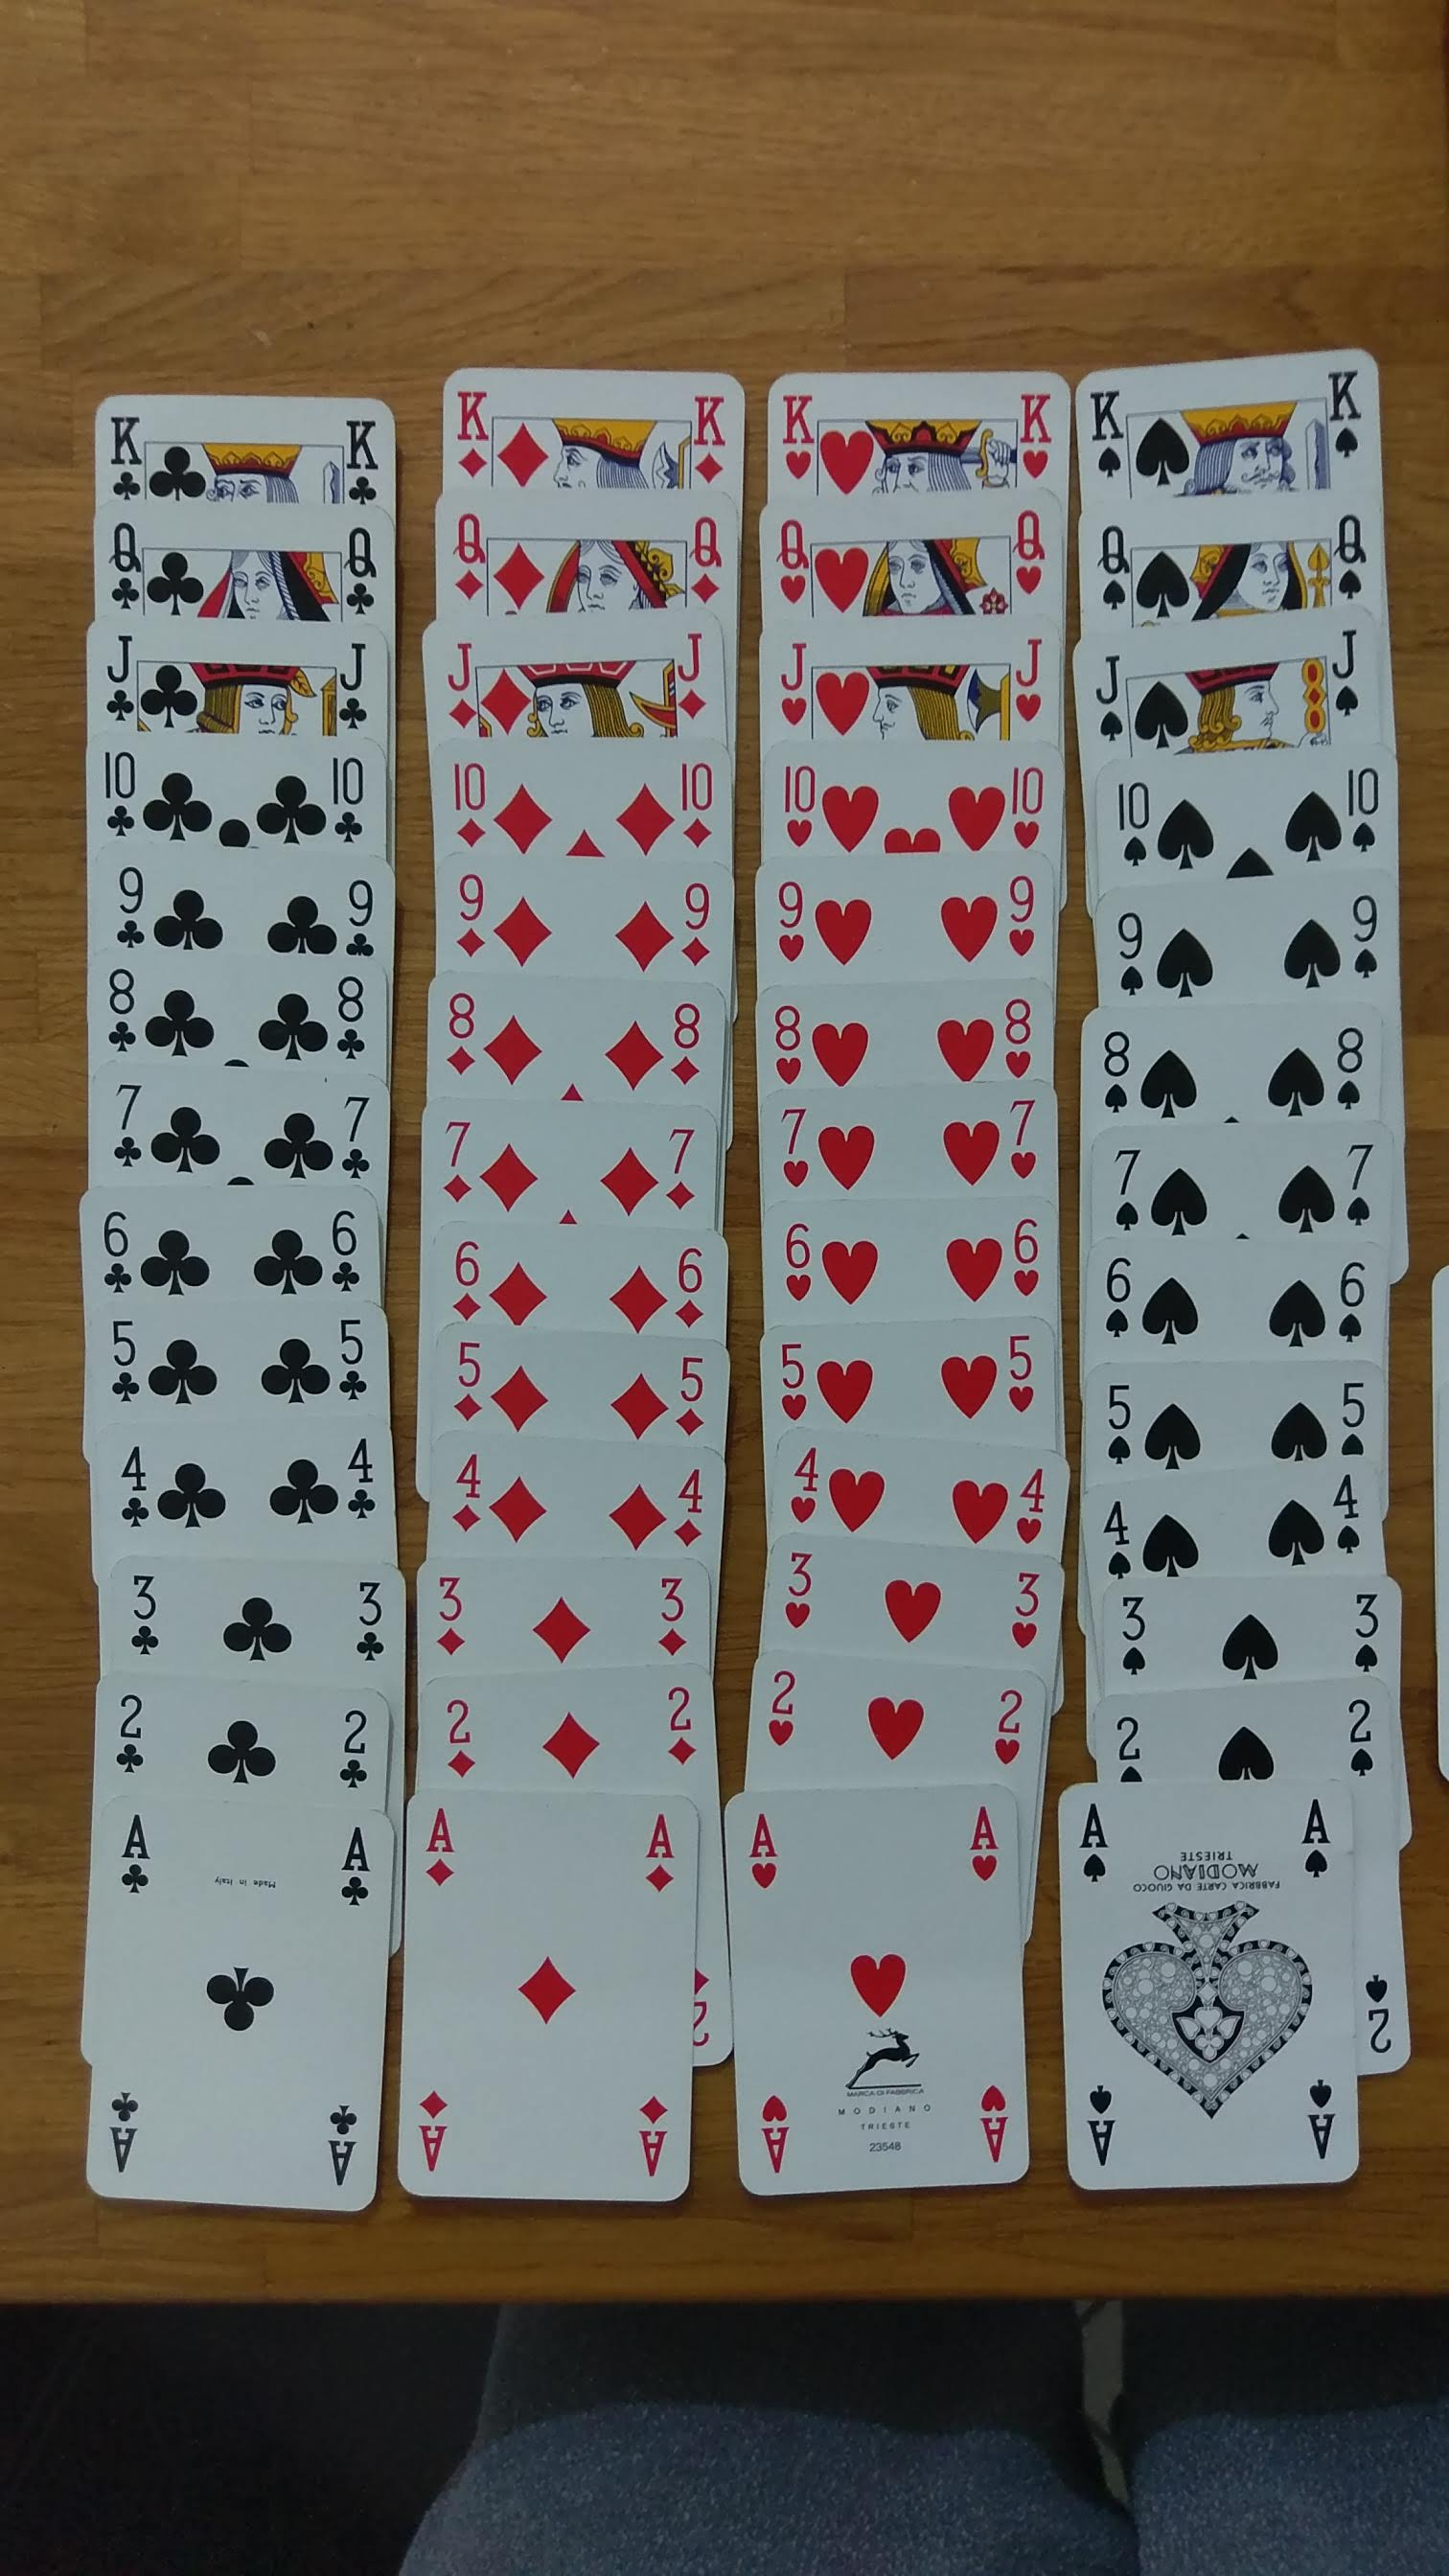10F: (318, 750, 375, 862), (99, 734, 147, 855)
1F: (324, 1812, 380, 1923), (97, 2068, 150, 2185), (318, 2086, 370, 2204), (115, 1798, 163, 1916)
2F: (327, 1693, 382, 1798), (104, 1686, 157, 1778)
3F: (120, 1555, 166, 1674), (354, 1568, 396, 1675)
4F: (331, 1428, 389, 1537), (113, 1428, 159, 1552)
5F: (327, 1309, 379, 1410), (99, 1307, 149, 1408)
6F: (317, 1194, 372, 1307), (88, 1198, 145, 1306)
7F: (101, 1069, 154, 1175), (331, 1086, 375, 1189)
8F: (326, 973, 380, 1074), (97, 959, 147, 1058)
9F: (101, 853, 154, 957), (338, 869, 382, 975)
JF: (101, 630, 147, 738), (331, 632, 373, 747)
KF: (338, 407, 382, 513), (111, 396, 147, 504)
QF: (338, 520, 386, 625), (104, 517, 147, 614)
